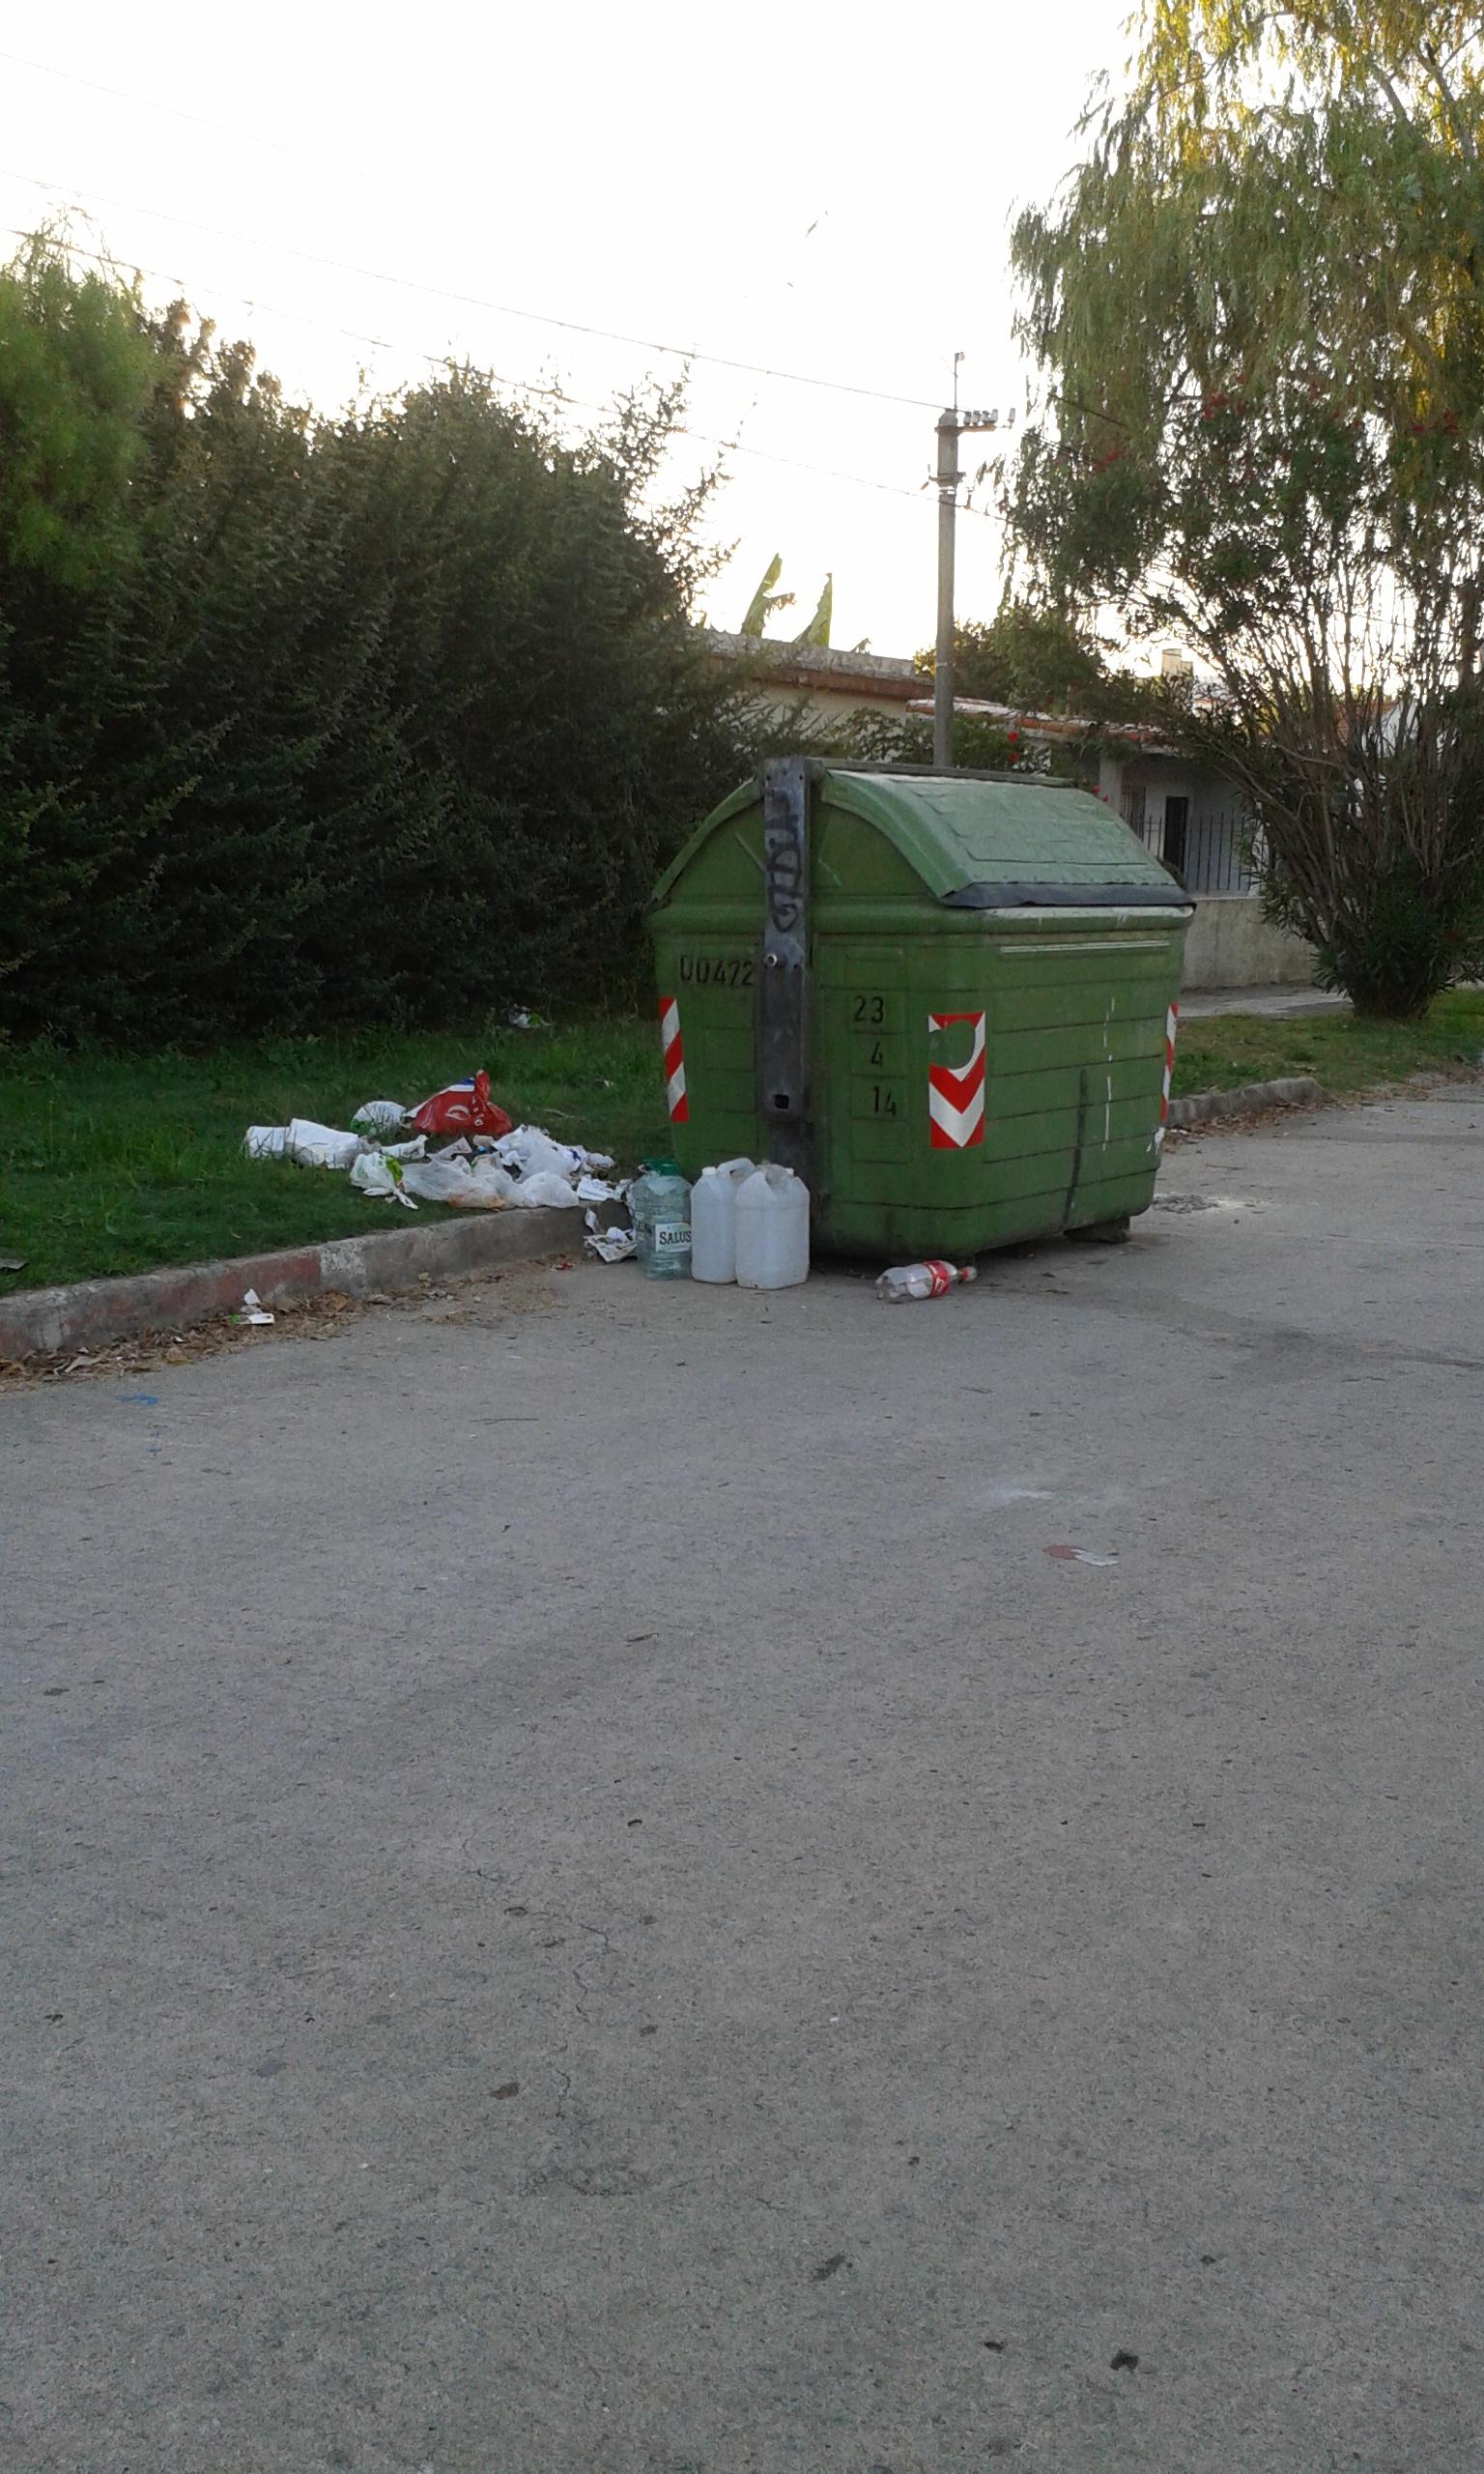Dechets: (242, 1067, 829, 1299), (689, 1156, 809, 1290), (632, 1163, 693, 1279), (866, 1256, 1000, 1308), (403, 1071, 512, 1129), (247, 1119, 360, 1170), (397, 1159, 498, 1203), (509, 1170, 579, 1207), (585, 1225, 640, 1271), (348, 1099, 406, 1126)
Trash: (647, 742, 1208, 1260)
